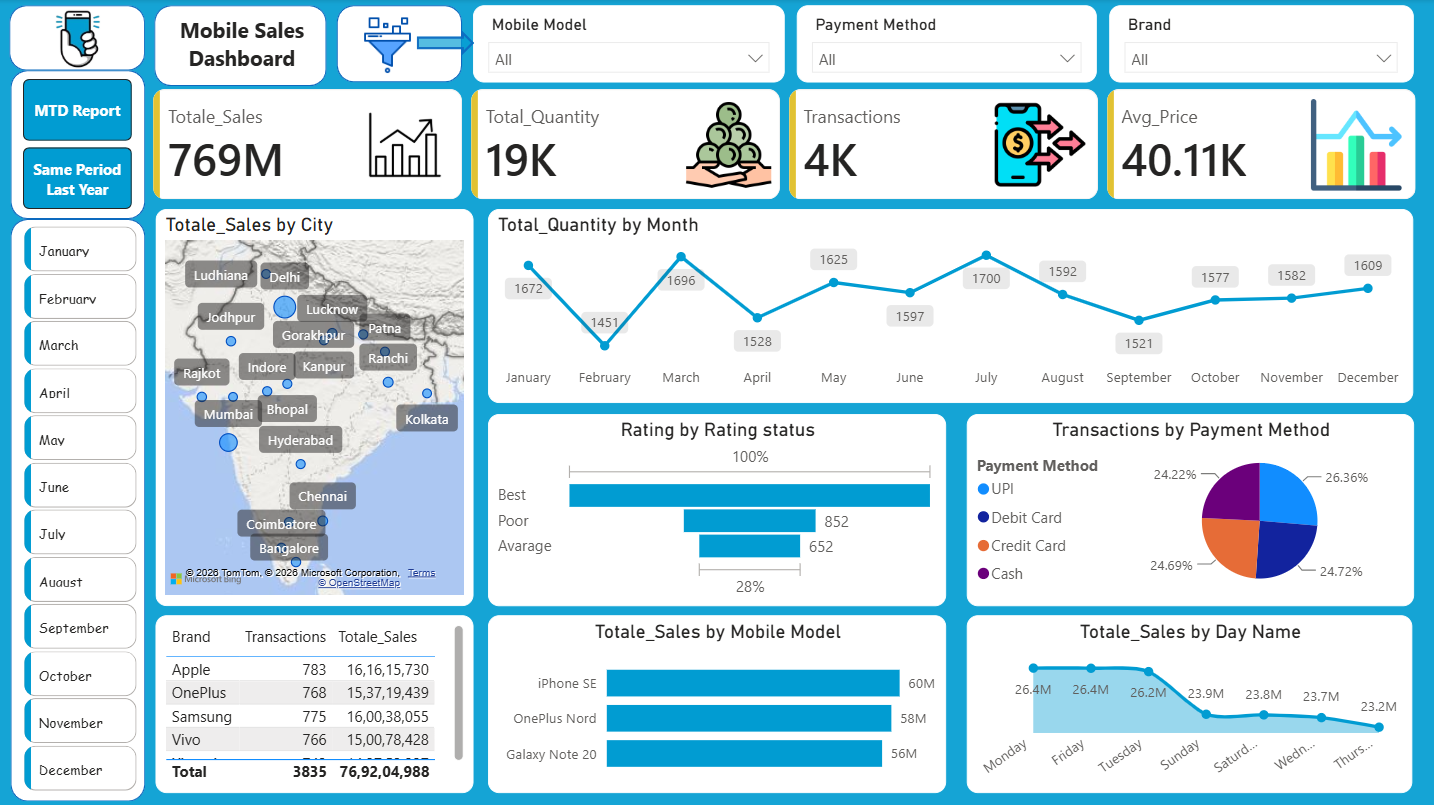

The dashboard page shown, as its layout file describes it:
{"tool":"powerbi","page":{"name":"Dashboard","canvas":[1280,720],"ordinal":0},"visuals":[{"type":"shape","box":[10.5,5.8,120.9,58.1],"z":0},{"type":"image","box":[11.6,5.8,119.8,64],"z":1000},{"type":"shape","box":[11.2,63.8,120,132.5],"z":2000},{"type":"shape","box":[11.2,196.2,120,518.8],"z":3000},{"type":"advancedSlicerVisual","fields":{"Values":["Custom_Calender.Date.Variation.Date Hierarchy.Month"]},"box":[23.8,202.5,100,503.8],"z":4000},{"type":"cardVisual","fields":{"Data":["Sales_data.Totale_Sales","Sales_data.Total_Quantity","Sales_data.Transactions","Sales_data.Avg_Price"]},"box":[121.2,63.8,1158.8,132.5],"z":5000},{"type":"image","box":[311.2,88.8,101.2,81.2],"z":6000},{"type":"image","box":[600,88.8,101.2,81.2],"z":7000},{"type":"image","box":[877.5,88.8,101.2,81.2],"z":8000},{"type":"image","box":[1158.8,88.8,101.2,81.2],"z":9000},{"type":"slicer","fields":{"Values":["Sales_data.Mobile Model"]},"box":[423.3,5.8,277.9,68.6],"z":10000},{"type":"slicer","fields":{"Values":["Sales_data.Payment Method"]},"box":[711.6,5.8,267.4,68.6],"z":11000},{"type":"slicer","fields":{"Values":["Sales_data.Brand"]},"box":[989.5,5.8,270.9,68.6],"z":12000},{"type":"shape","box":[301.2,5.8,111.6,68.6],"z":13000},{"type":"image","box":[311.6,15.1,69.8,51.2],"z":14000},{"type":"shape","box":[372.5,27.5,51.2,22.5],"z":15000},{"type":"shape","box":[139.5,5.8,153.5,72.1],"z":16000},{"type":"textbox","box":[148.8,10.5,136,62.8],"z":17000},{"type":"map","fields":{"Category":["Sales_data.City"],"Size":["Sales_data.Totale_Sales"]},"box":[139.9,187,283.5,353.5],"z":18000},{"type":"lineChart","fields":{"Category":["Custom_Calender.Date.Variation.Date Hierarchy.Month"],"Y":["Sales_data.Total_Quantity"]},"box":[436.7,187,824,172.5],"z":19000},{"type":"funnel","title":"Rating by Rating status","fields":{"Y":["CountNonNull(Sales_data.Customer Ratings)"],"Category":["Sales_data.Rating_status"]},"box":[436.7,369.2,407.8,171.3],"z":20000},{"type":"pieChart","fields":{"Category":["Sales_data.Payment Method"],"Y":["Sales_data.Transactions"]},"box":[862.6,369.2,398.1,171.3],"z":21000},{"type":"clusteredBarChart","fields":{"Y":["Sales_data.Totale_Sales"],"Category":["Sales_data.Mobile Model"]},"box":[436.7,548.9,407.8,158],"z":22000},{"type":"areaChart","fields":{"Category":["Custom_Calender.Day Name"],"Y":["Sales_data.Totale_Sales"]},"box":[862.6,548.9,396.9,158],"z":23000},{"type":"tableEx","fields":{"Values":["Sales_data.Brand","Sales_data.Transactions","Sales_data.Totale_Sales"]},"box":[139.9,548.9,283.5,158],"z":24000},{"type":"pageNavigator","box":[21.7,71.2,97.7,117],"z":24001}]}

Visuals, with their boxes in screenshot pixels (x1, y1, x2, y2), scaled from the page's 1280x720 canvas onto the 1434x805 screenshot:
shape: [12,6,147,71]
image: [13,6,147,78]
shape: [13,71,147,219]
shape: [13,219,147,799]
advancedSlicerVisual - Custom_Calender.Date.Variation.Date Hierarchy.Month: [27,226,139,790]
cardVisual - Sales_data.Totale_Sales x Sales_data.Total_Quantity: [136,71,1433,219]
image: [349,99,462,190]
image: [672,99,786,190]
image: [983,99,1096,190]
image: [1298,99,1412,190]
slicer - Sales_data.Mobile Model: [474,6,786,83]
slicer - Sales_data.Payment Method: [797,6,1097,83]
slicer - Sales_data.Brand: [1109,6,1412,83]
shape: [337,6,462,83]
image: [349,17,427,74]
shape: [417,31,475,56]
shape: [156,6,328,87]
textbox: [167,12,319,82]
map - Sales_data.City x Sales_data.Totale_Sales: [157,209,474,604]
lineChart - Custom_Calender.Date.Variation.Date Hierarchy.Month x Sales_data.Total_Quantity: [489,209,1412,402]
"Rating by Rating status" funnel: [489,413,946,604]
pieChart - Sales_data.Payment Method x Sales_data.Transactions: [966,413,1412,604]
clusteredBarChart - Sales_data.Totale_Sales x Sales_data.Mobile Model: [489,614,946,790]
areaChart - Custom_Calender.Day Name x Sales_data.Totale_Sales: [966,614,1411,790]
tableEx - Sales_data.Brand x Sales_data.Transactions: [157,614,474,790]
pageNavigator: [24,80,134,210]
